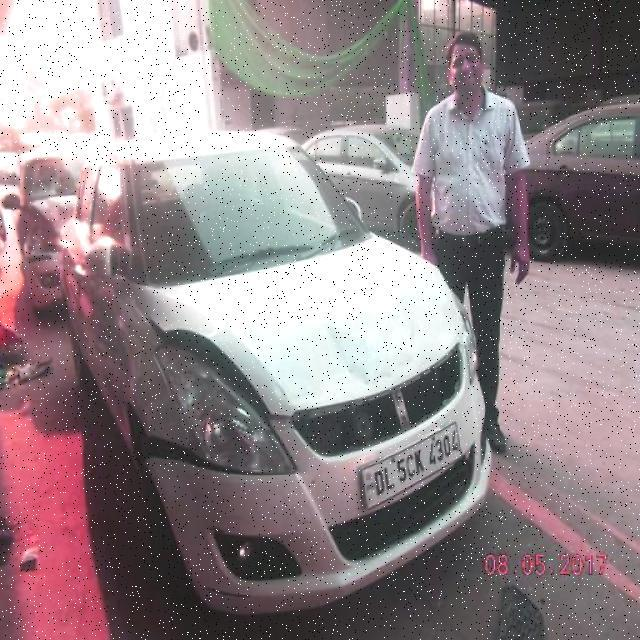car damage: (293, 338, 467, 460), (271, 298, 460, 408), (149, 317, 274, 432), (206, 277, 333, 340), (146, 430, 279, 478), (336, 275, 455, 322), (152, 467, 179, 529), (373, 262, 438, 285), (204, 584, 251, 600), (270, 411, 297, 437), (219, 510, 244, 521), (207, 524, 227, 533)
